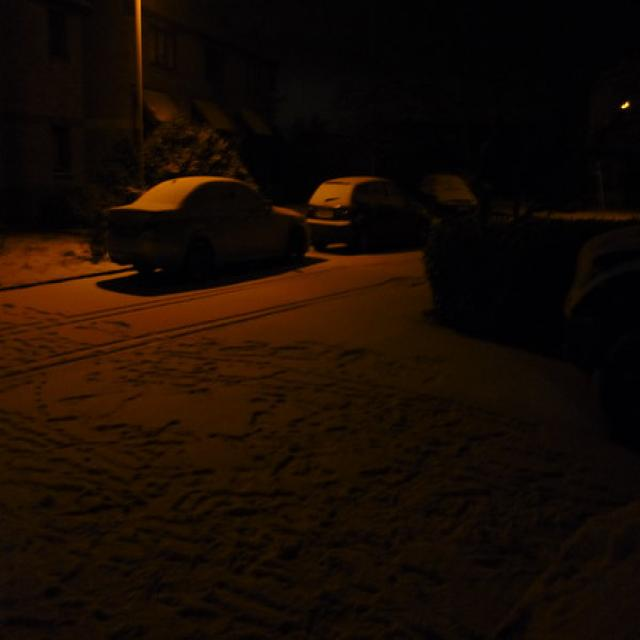Car: (103, 171, 312, 283)
